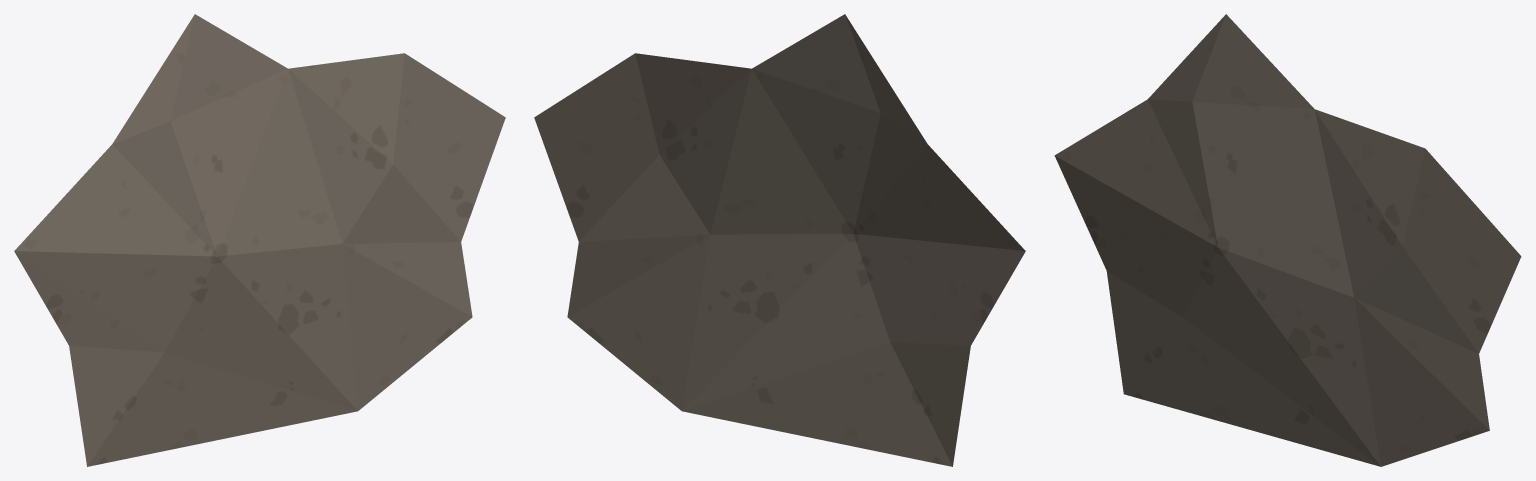
File: SM_Gen_Env_Ivy_02.glb
The picture shows the model from 3 angles, left to right: view 1: azimuth 30°, elevation 25°; view 2: azimuth 150°, elevation 25°; view 3: azimuth 330°, elevation 25°; orthographic projection. The views are drawn at different scales.
Parts seen in each view (by area): view 1: SM_Gen_Env_Ivy_02; view 2: SM_Gen_Env_Ivy_02; view 3: SM_Gen_Env_Ivy_02.
Part boxes in pixels (x1,y1,x2,y2): SM_Gen_Env_Ivy_02: (14, 14, 505, 466); SM_Gen_Env_Ivy_02: (534, 14, 1025, 466); SM_Gen_Env_Ivy_02: (1054, 14, 1521, 466).
Bounding box in the file's own units: 2.03 × 1.72 × 0.1107.
1 material, 1 textured.
